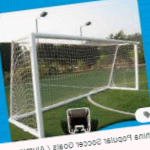goals: (7, 30, 138, 136)
